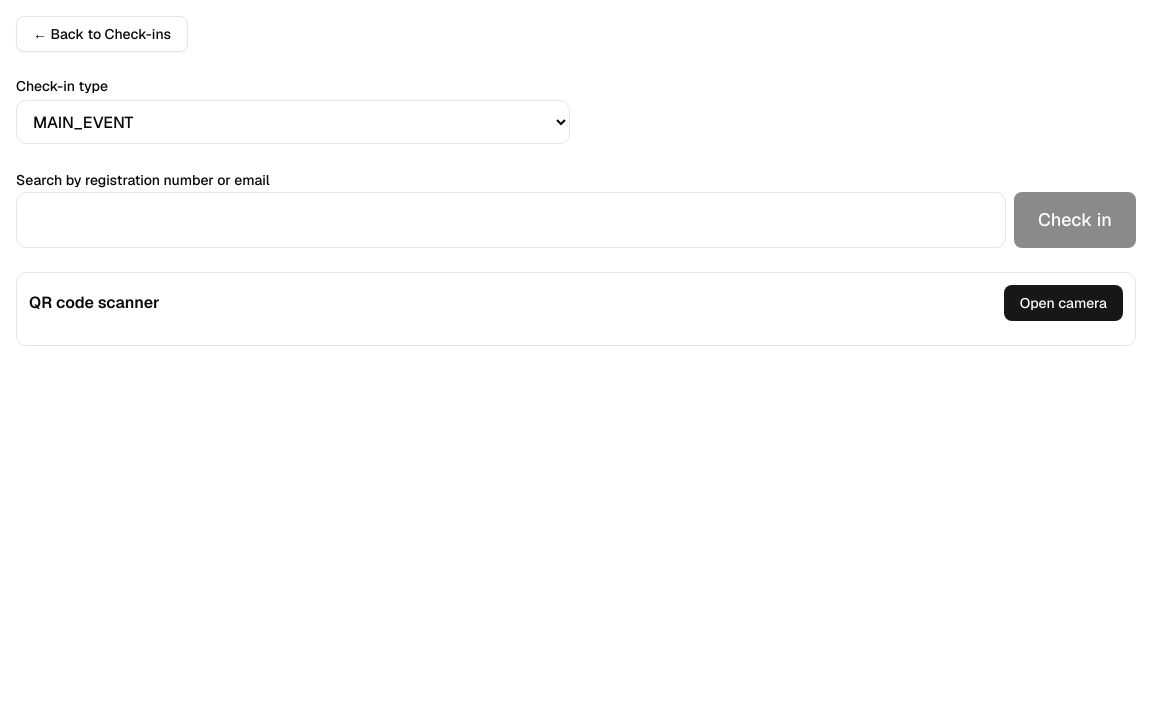
Test case: CheckinScanner › checks in via manual search without camera permission
Type "REG-000123" into the field labelled "Search by registration number or email" at (511, 220), box left=16, top=192, right=1006, bottom=248
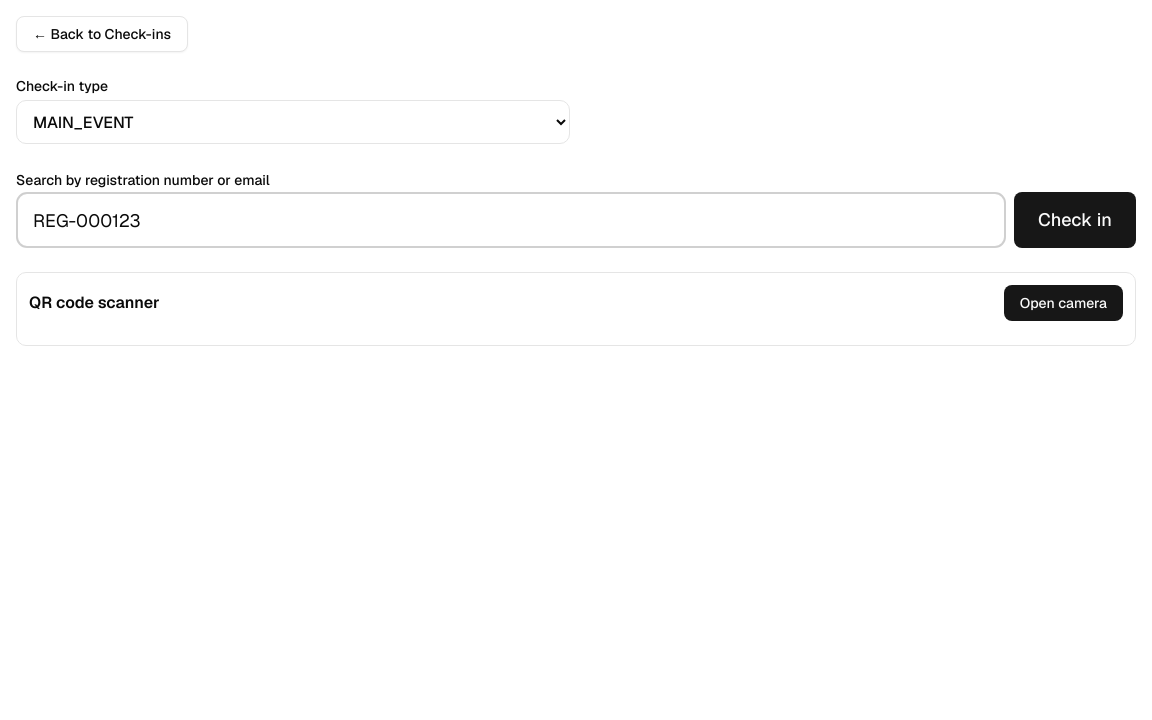
Click the button "Check in" at (1075, 220), box left=1014, top=192, right=1136, bottom=248
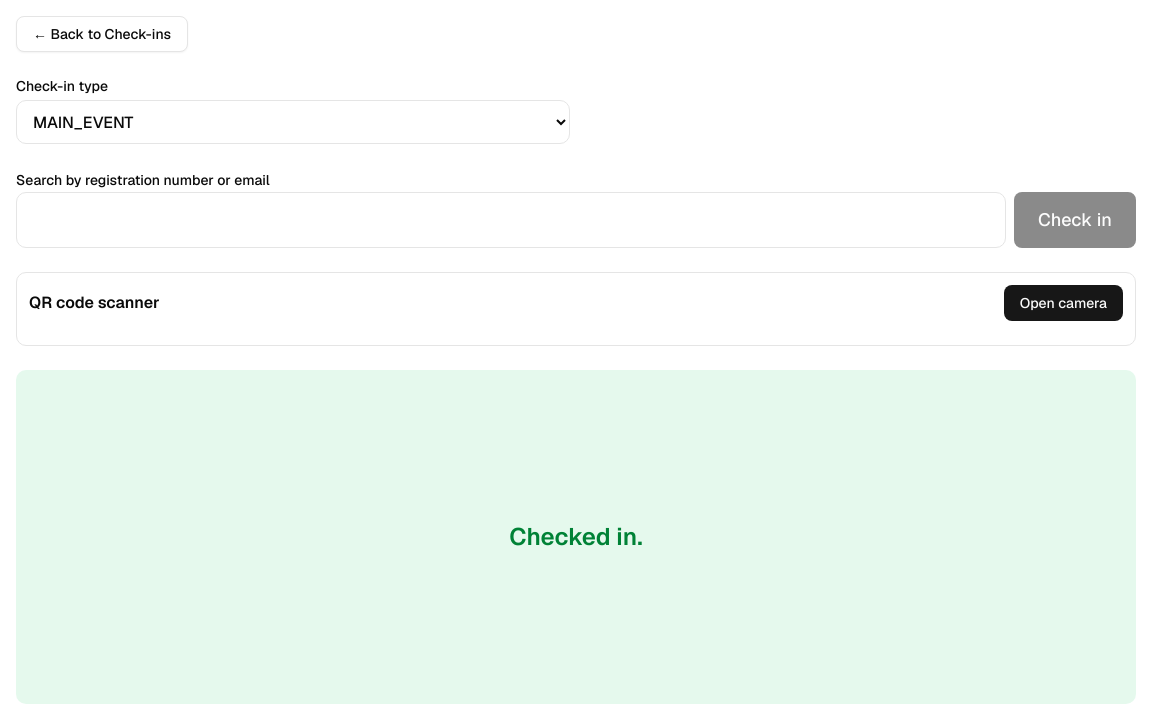
Now the text "Checked in." is shown, box left=16, top=370, right=1136, bottom=704
